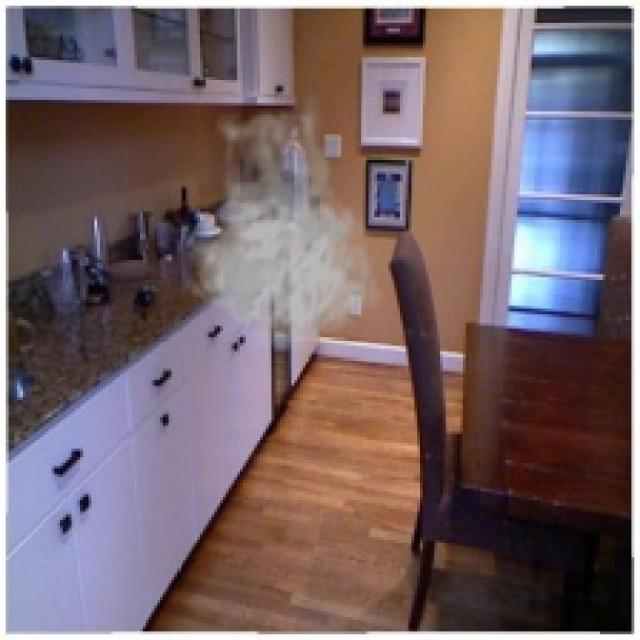smoke: (180, 91, 383, 352)
